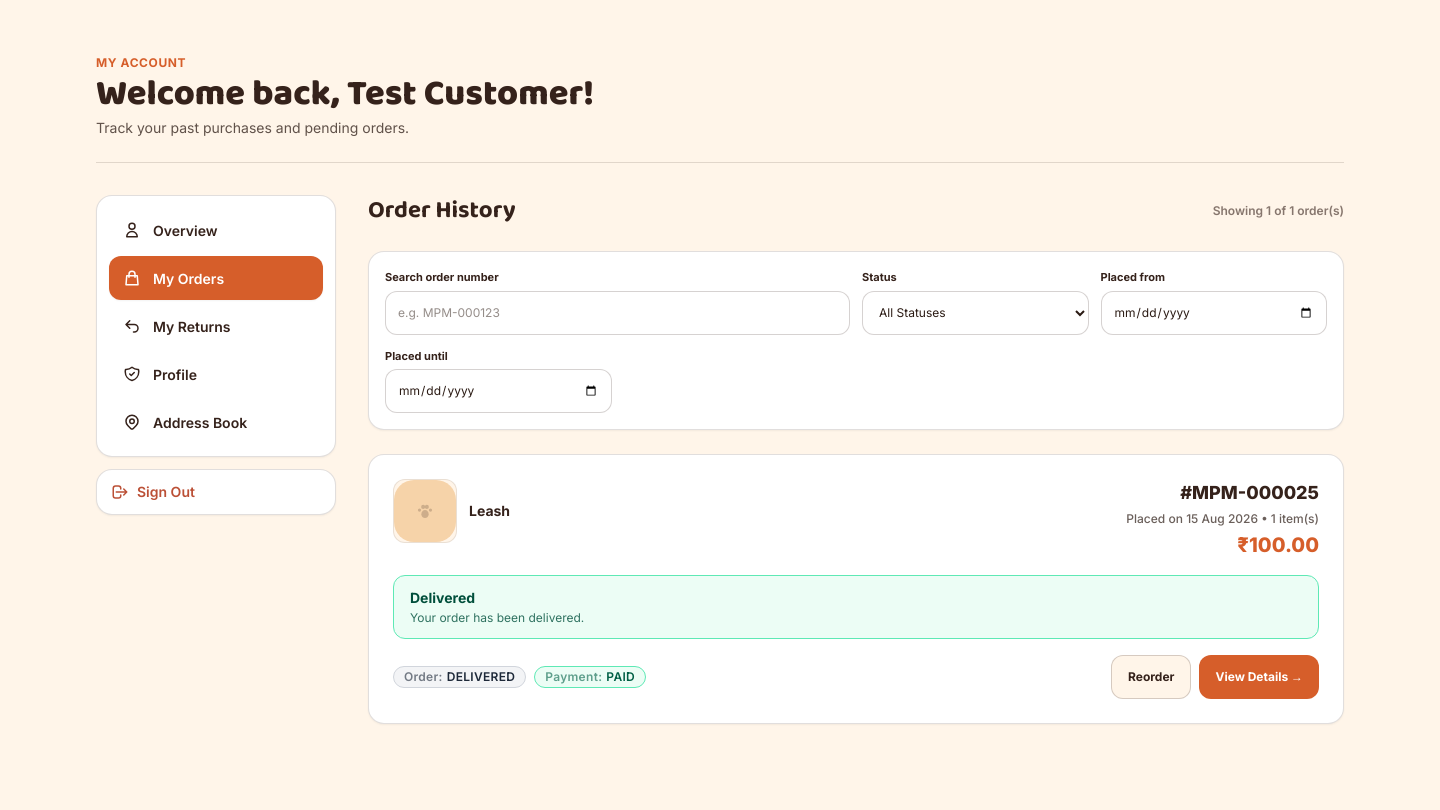
My Orders Page & Client Tests › 13. Clear Filters resets status/date/search and refetches the unfiltered list
Select "Cancelled" in the dropdown labelled "Status": (975, 312) [862,290,1088,334]
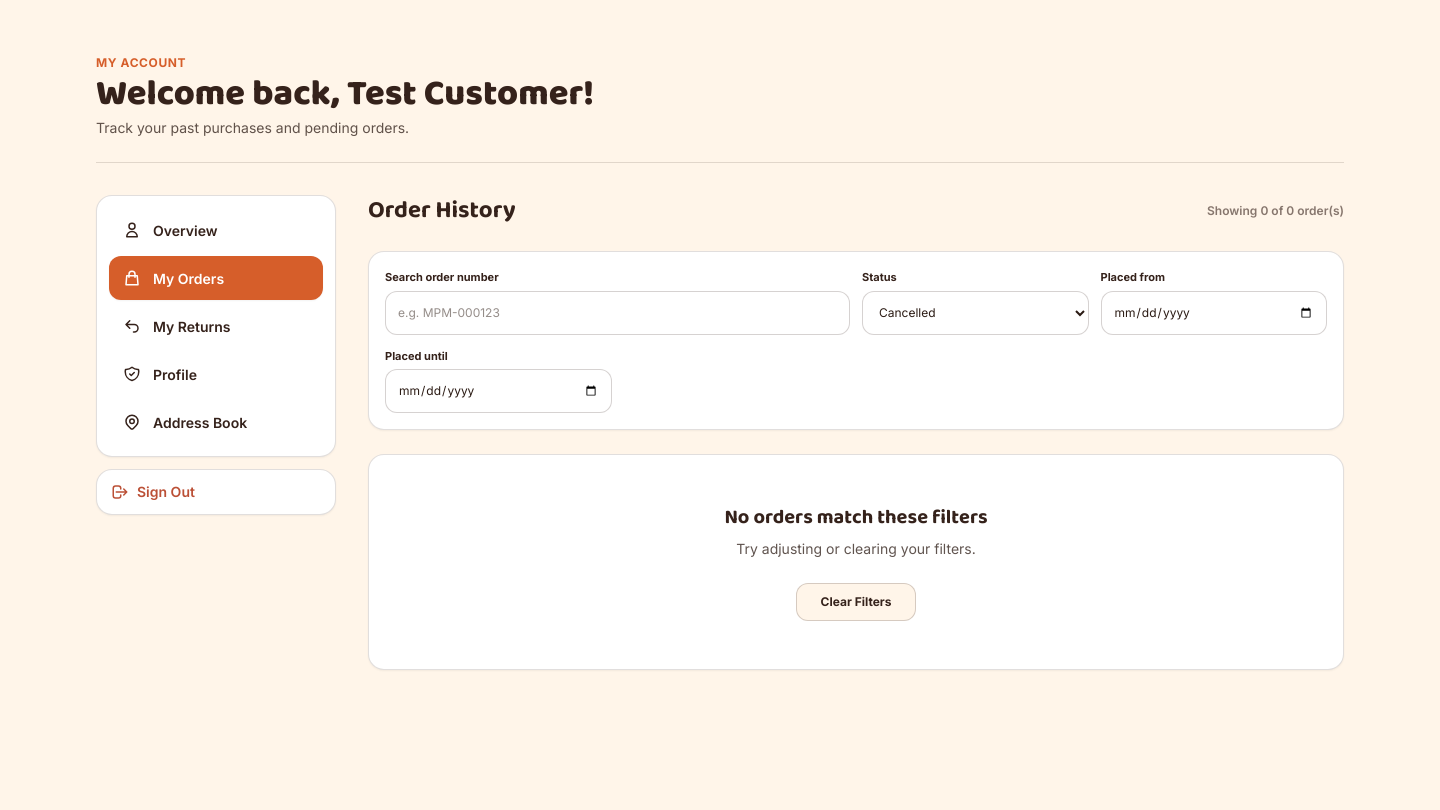
expect the heading "No orders match these filters" is shown: met, box [724,501,988,533]
Click the button "Clear Filters": (856, 602) [796,583,916,621]
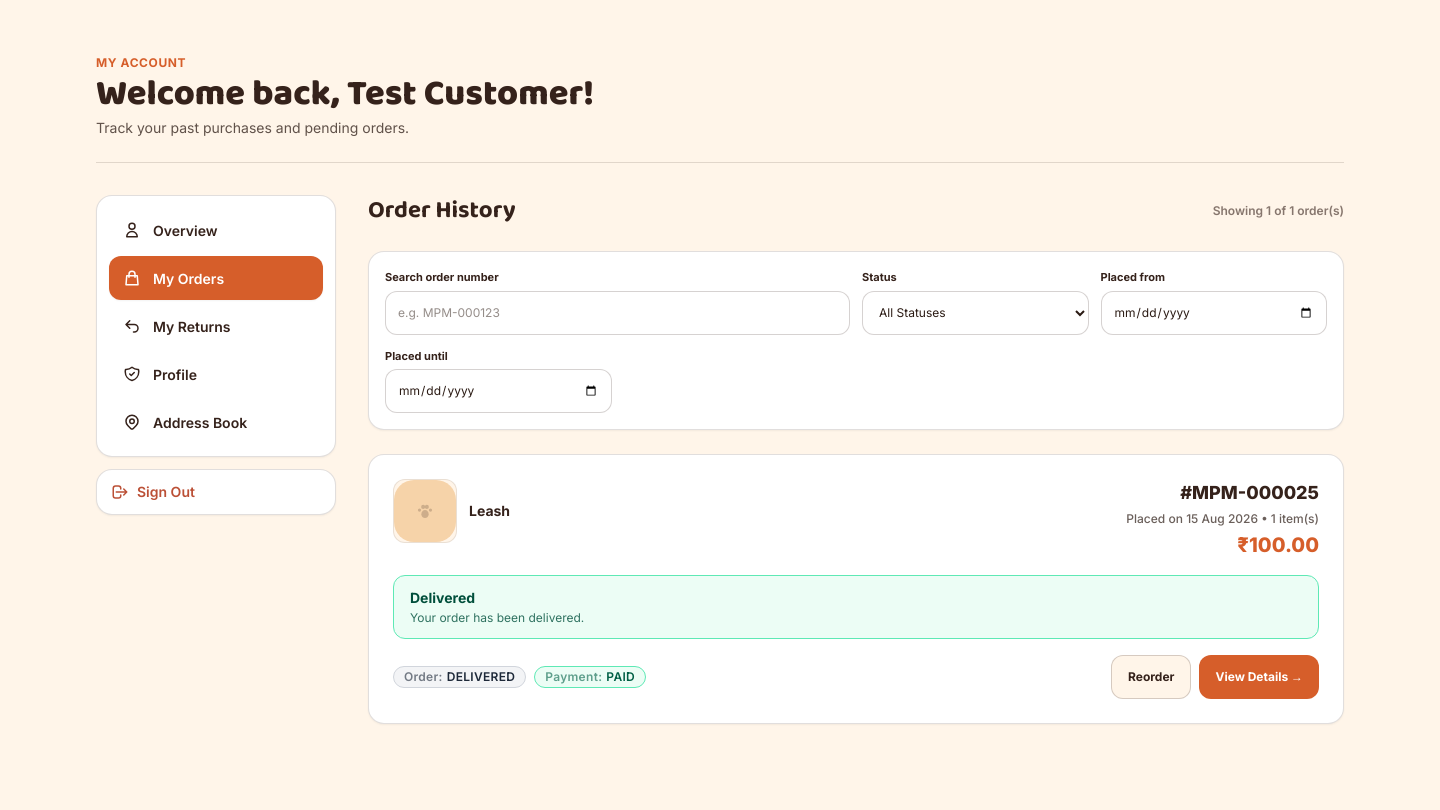
expect the text "Leash" is shown: met, box [469,501,510,521]
